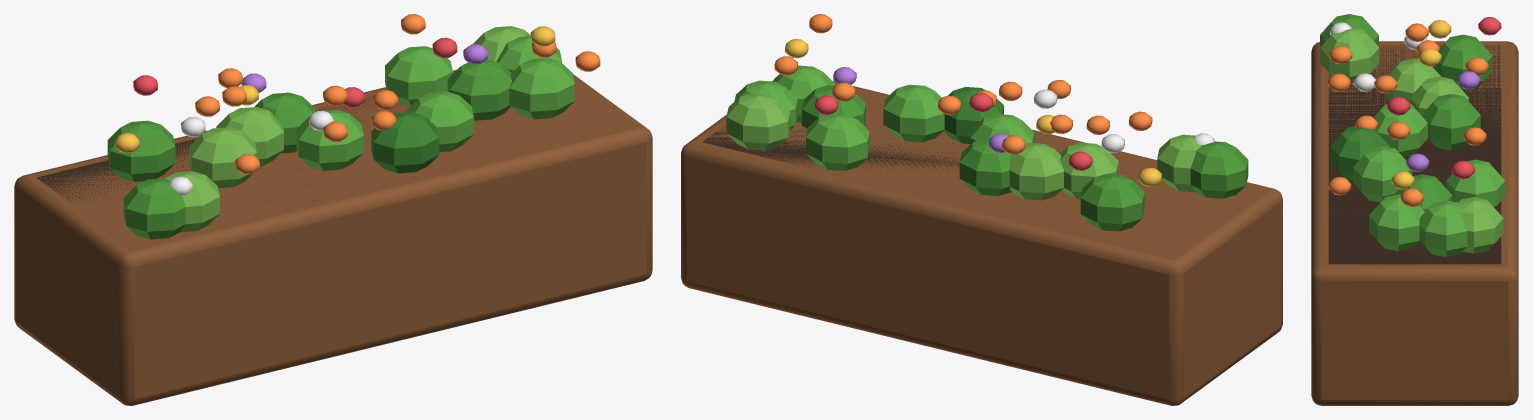
File: flower_planter.fbx
3 renders of one model, left to right at view 1: azimuth 30°, elevation 25°; view 2: azimuth 150°, elevation 25°; view 3: azimuth 270°, elevation 25°, orthographic. The views are drawn at different scales.
Visible parts, largest first — view 1: flower_planter; view 2: flower_planter; view 3: flower_planter.
Boxes of the visible parts, bbox=[...] form: flower_planter: bbox=[14, 14, 652, 405]; flower_planter: bbox=[681, 14, 1282, 405]; flower_planter: bbox=[1311, 14, 1518, 405].
Bounding box in the file's own units: 1.6 × 0.6823 × 0.6.
